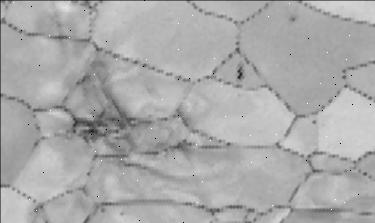good_void: (66, 55, 153, 168), (175, 138, 193, 153), (233, 61, 245, 82), (287, 15, 297, 23), (310, 118, 317, 125), (99, 207, 105, 213), (118, 211, 123, 217)
